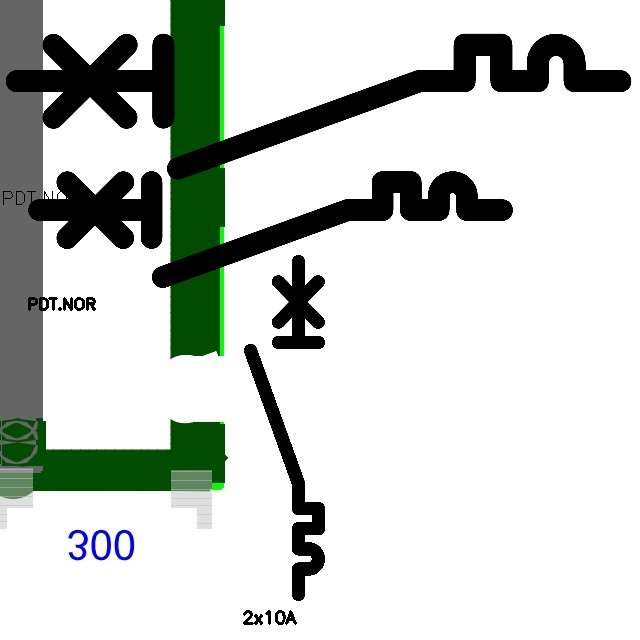interruptor_termomagnetico: (1, 29, 636, 184), (27, 170, 514, 289), (242, 253, 327, 603)
